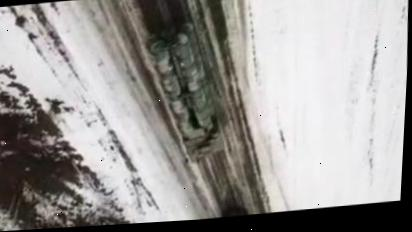rszo: (138, 16, 232, 169)
